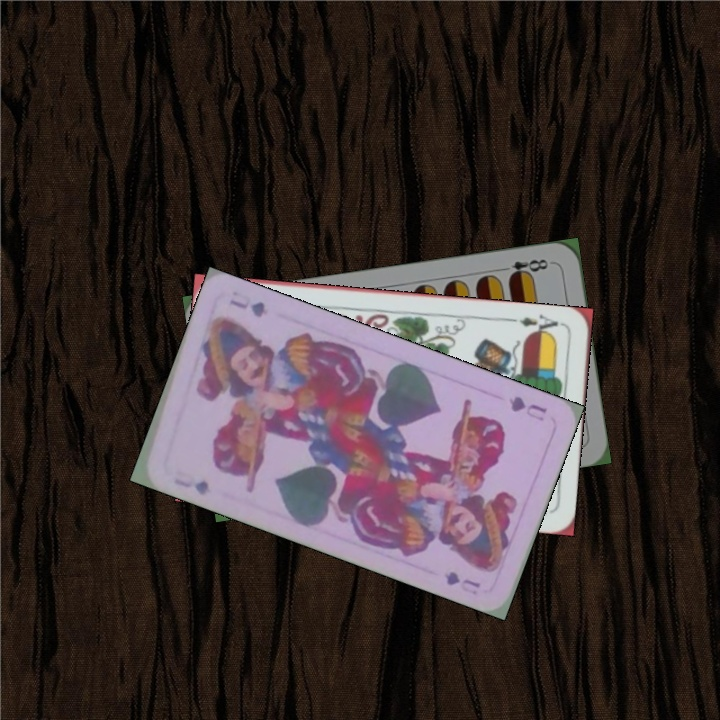E8: (496, 255, 555, 282)
EA: (515, 311, 561, 339)
GU: (504, 392, 550, 424), (169, 472, 213, 498)
